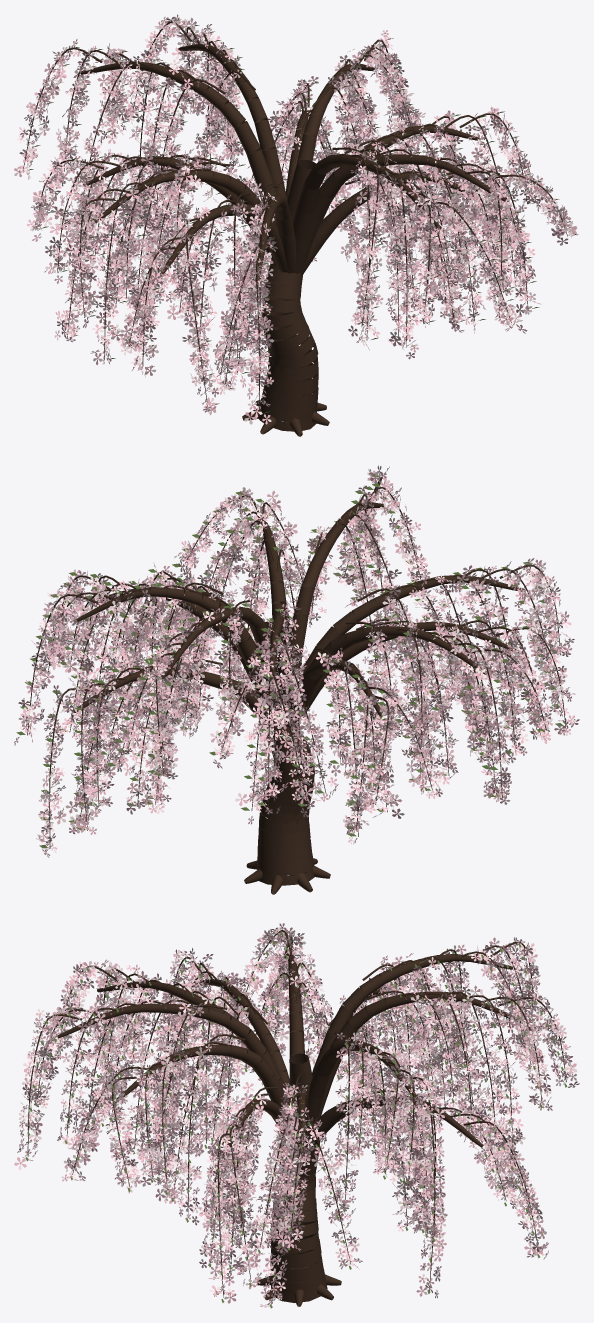
The model's file is cherry.glb.
3 views of the same model, one above another, from view 1: azimuth 30°, elevation 25°; view 2: azimuth 150°, elevation 25°; view 3: azimuth 270°, elevation 25° (orthographic). The views are drawn at different scales.
Parts seen in each view (by area): view 1: Weeping cherry by Peacock Sundial Cherry blush blossom, Weeping cherry by Peacock Sundial Cherry pale blossom, Weeping cherry by Peacock Sundial Cherry fissured dark bark, Weeping cherry by Peacock Sundial Cherry warm flower heart, Weeping cherry by Peacock Sundial Cherry emerging leaf; view 2: Weeping cherry by Peacock Sundial Cherry blush blossom, Weeping cherry by Peacock Sundial Cherry pale blossom, Weeping cherry by Peacock Sundial Cherry fissured dark bark, Weeping cherry by Peacock Sundial Cherry emerging leaf, Weeping cherry by Peacock Sundial Cherry warm flower heart; view 3: Weeping cherry by Peacock Sundial Cherry blush blossom, Weeping cherry by Peacock Sundial Cherry pale blossom, Weeping cherry by Peacock Sundial Cherry fissured dark bark, Weeping cherry by Peacock Sundial Cherry emerging leaf, Weeping cherry by Peacock Sundial Cherry warm flower heart.
Part boxes in pixels (bbox=[...]): Weeping cherry by Peacock Sundial Cherry blush blossom: bbox=[14, 14, 577, 424]; Weeping cherry by Peacock Sundial Cherry pale blossom: bbox=[14, 16, 577, 424]; Weeping cherry by Peacock Sundial Cherry fissured dark bark: bbox=[23, 21, 567, 436]; Weeping cherry by Peacock Sundial Cherry warm flower heart: bbox=[18, 19, 572, 419]; Weeping cherry by Peacock Sundial Cherry emerging leaf: bbox=[28, 19, 578, 413]; Weeping cherry by Peacock Sundial Cherry blush blossom: bbox=[14, 465, 579, 854]; Weeping cherry by Peacock Sundial Cherry pale blossom: bbox=[16, 466, 576, 857]; Weeping cherry by Peacock Sundial Cherry fissured dark bark: bbox=[27, 477, 565, 894]; Weeping cherry by Peacock Sundial Cherry emerging leaf: bbox=[16, 473, 563, 848]; Weeping cherry by Peacock Sundial Cherry warm flower heart: bbox=[23, 471, 574, 853]; Weeping cherry by Peacock Sundial Cherry blush blossom: bbox=[14, 923, 579, 1307]; Weeping cherry by Peacock Sundial Cherry pale blossom: bbox=[17, 927, 577, 1305]; Weeping cherry by Peacock Sundial Cherry fissured dark bark: bbox=[27, 930, 566, 1306]; Weeping cherry by Peacock Sundial Cherry emerging leaf: bbox=[26, 932, 567, 1308]; Weeping cherry by Peacock Sundial Cherry warm flower heart: bbox=[20, 927, 573, 1301].
Size of the model in its own units: 12.03 by 7.67 by 12.58.
5 materials, 1 textured.
